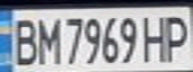6: (100, 12, 121, 64)
7: (60, 14, 84, 65)
9: (118, 12, 142, 64), (81, 14, 103, 65)
B: (6, 15, 42, 66)
H: (139, 11, 172, 63)
M: (33, 12, 60, 65)
P: (160, 11, 193, 62)
